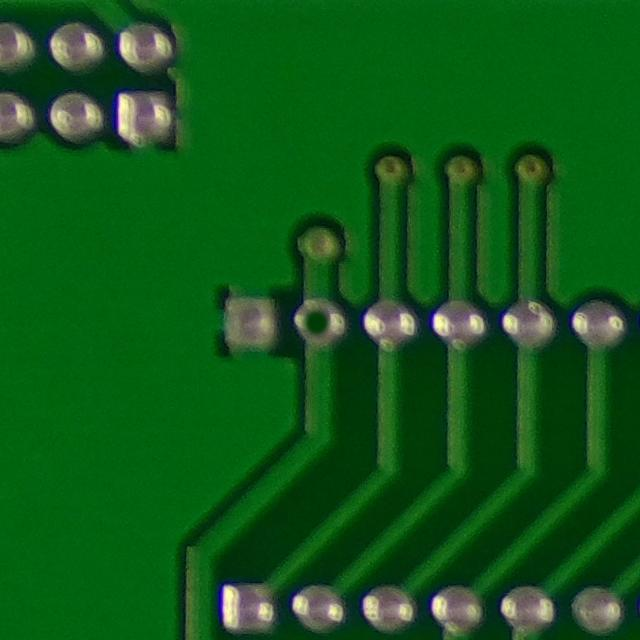missing_hole: (287, 292, 352, 353)
